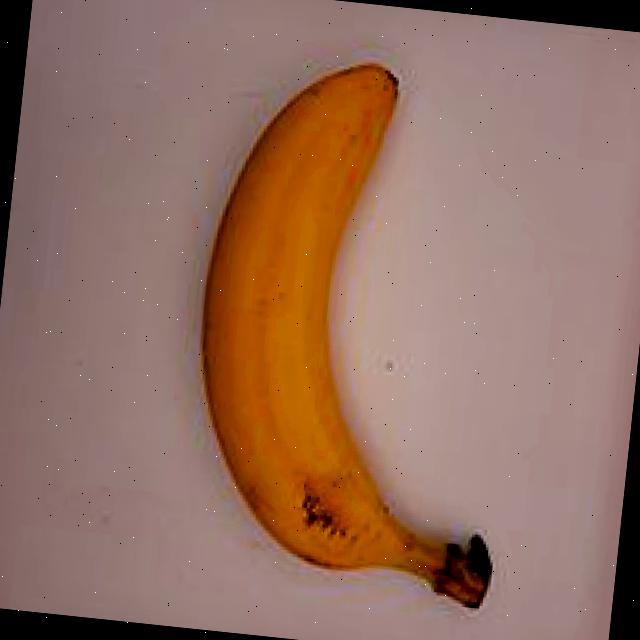Ripe: (127, 10, 567, 640)
